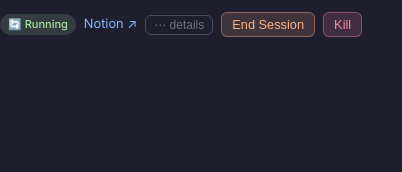
Scenario: SessionControls — compact disclosure toggle › collapses again on second click
Click the button with aria-label "Show session details" at {"x": 179, "y": 24}, box [145, 14, 213, 34]
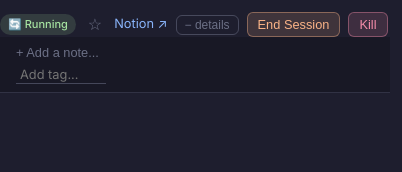
Click the button with aria-label "Hide session details" at {"x": 207, "y": 24}, box [176, 14, 238, 34]
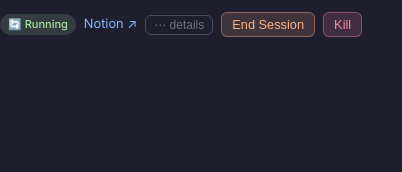
Expected: the button with aria-label "Show session details" is collapsed, [145, 14, 213, 34]
